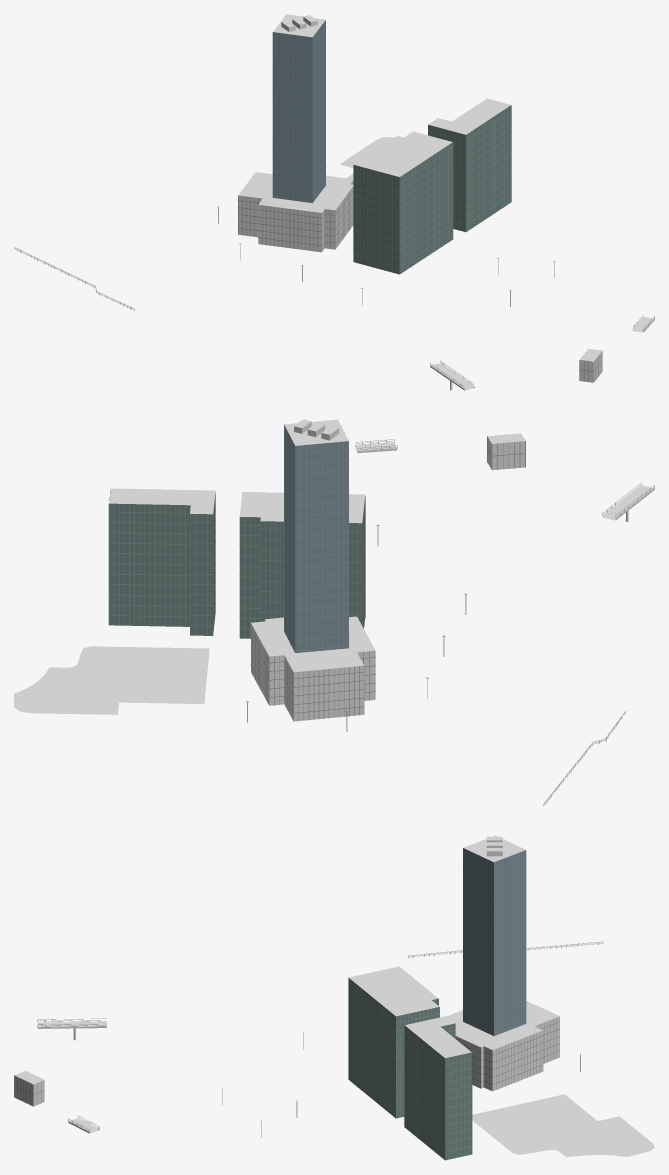
The picture shows the model from 3 angles, top to bottom: view 1: azimuth 30°, elevation 25°; view 2: azimuth 150°, elevation 25°; view 3: azimuth 270°, elevation 25°; orthographic projection. The views are drawn at different scales.
Visible parts, largest first — view 1: -2_-2_v02 绿灰幕墙, -2_-2_v02 铝合金幕墙框, -2_-2_v02 中性蓝灰幕墙, -2_-2_v02 深灰屋面, -2_-2_v02 米白石材, -2_-2_步行桥面 · 7m; view 2: -2_-2_v02 绿灰幕墙, -2_-2_v02 铝合金幕墙框, -2_-2_v02 中性蓝灰幕墙, -2_-2_v02 草地, -2_-2_v02 深灰屋面, -2_-2_v02 米白石材, -2_-2_步行桥面 · 7m, -2_-2_桥栏杆银灰; view 3: -2_-2_v02 绿灰幕墙, -2_-2_v02 铝合金幕墙框, -2_-2_v02 中性蓝灰幕墙, -2_-2_v02 草地, -2_-2_v02 深灰屋面, -2_-2_v02 米白石材, -2_-2_步行桥面 · 7m, -2_-2_桥栏杆银灰.
Boxes of the visible parts, x1=… form: -2_-2_v02 绿灰幕墙: x1=353, y1=105, x2=511, y2=274; -2_-2_v02 铝合金幕墙框: x1=238, y1=16, x2=602, y2=381; -2_-2_v02 中性蓝灰幕墙: x1=273, y1=20, x2=325, y2=202; -2_-2_v02 深灰屋面: x1=238, y1=14, x2=601, y2=361; -2_-2_v02 米白石材: x1=238, y1=180, x2=602, y2=382; -2_-2_步行桥面 · 7m: x1=430, y1=317, x2=654, y2=390; -2_-2_v02 绿灰幕墙: x1=109, y1=492, x2=365, y2=638; -2_-2_v02 铝合金幕墙框: x1=108, y1=421, x2=525, y2=721; -2_-2_v02 中性蓝灰幕墙: x1=284, y1=425, x2=348, y2=652; -2_-2_v02 草地: x1=14, y1=646, x2=209, y2=714; -2_-2_v02 深灰屋面: x1=109, y1=419, x2=525, y2=672; -2_-2_v02 米白石材: x1=251, y1=436, x2=525, y2=721; -2_-2_步行桥面 · 7m: x1=355, y1=442, x2=654, y2=520; -2_-2_桥栏杆银灰: x1=247, y1=439, x2=654, y2=731; -2_-2_v02 绿灰幕墙: x1=348, y1=978, x2=471, y2=1160; -2_-2_v02 铝合金幕墙框: x1=14, y1=851, x2=559, y2=1160; -2_-2_v02 中性蓝灰幕墙: x1=463, y1=848, x2=526, y2=1035; -2_-2_v02 草地: x1=472, y1=1094, x2=654, y2=1157; -2_-2_v02 深灰屋面: x1=14, y1=835, x2=559, y2=1084; -2_-2_v02 米白石材: x1=14, y1=1016, x2=559, y2=1106; -2_-2_步行桥面 · 7m: x1=37, y1=1021, x2=106, y2=1133; -2_-2_桥栏杆银灰: x1=37, y1=1018, x2=580, y2=1137.
Size of the model in its own units: 192 by 91.65 by 241.
